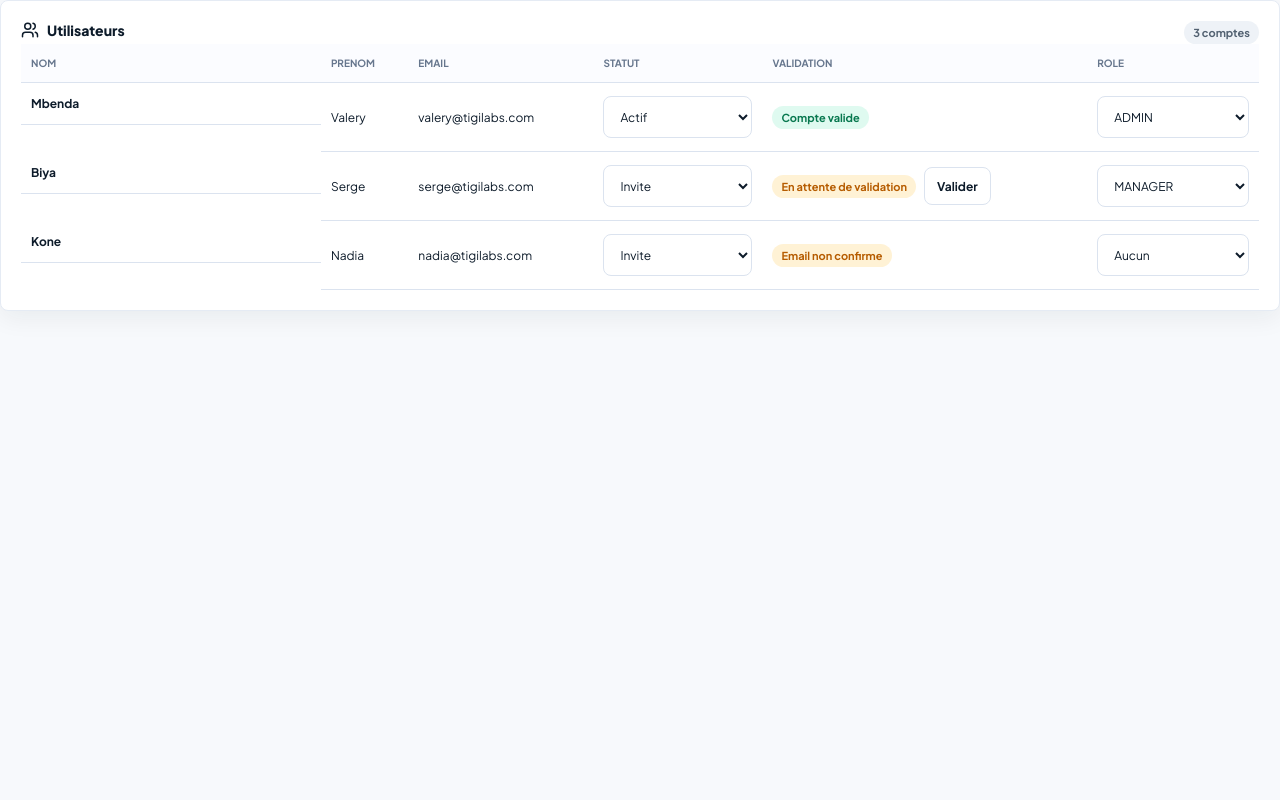
Test case: UsersManagement › reverts the status change and shows an error toast on failure
Select "Desactive" in the dropdown named "Statut de Serge Biya" at (678, 186), box [604,165,752,207]
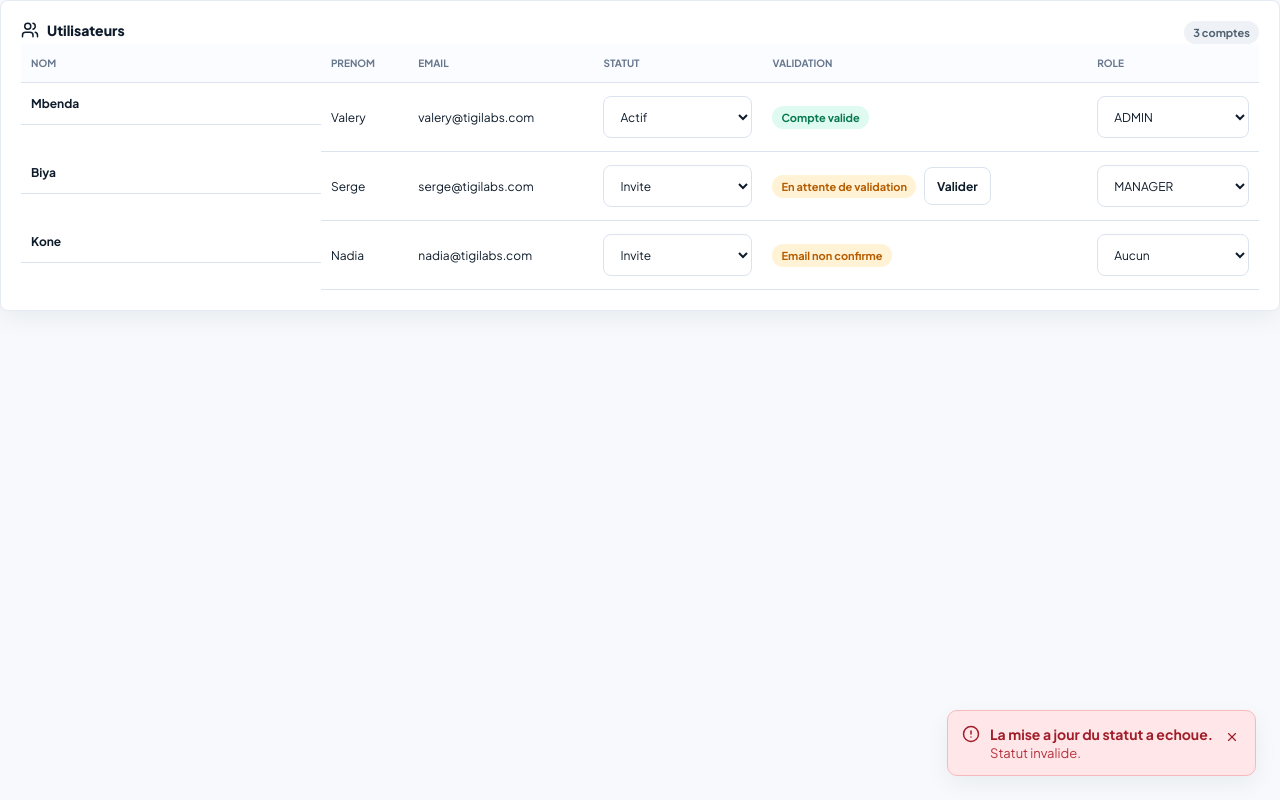
Check: the text "La mise a jour du statut a echoue." is shown, box [990,725,1213,743]
Check: the text "Statut invalide." is shown, box [990,745,1081,761]
